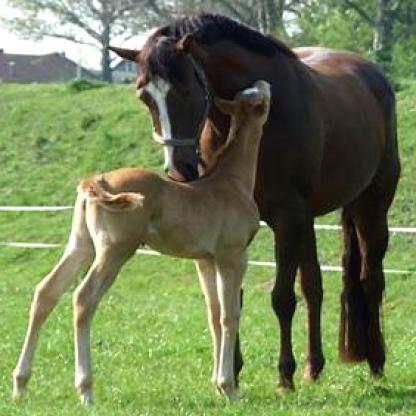horse: (102, 13, 403, 400), (10, 77, 273, 402)
